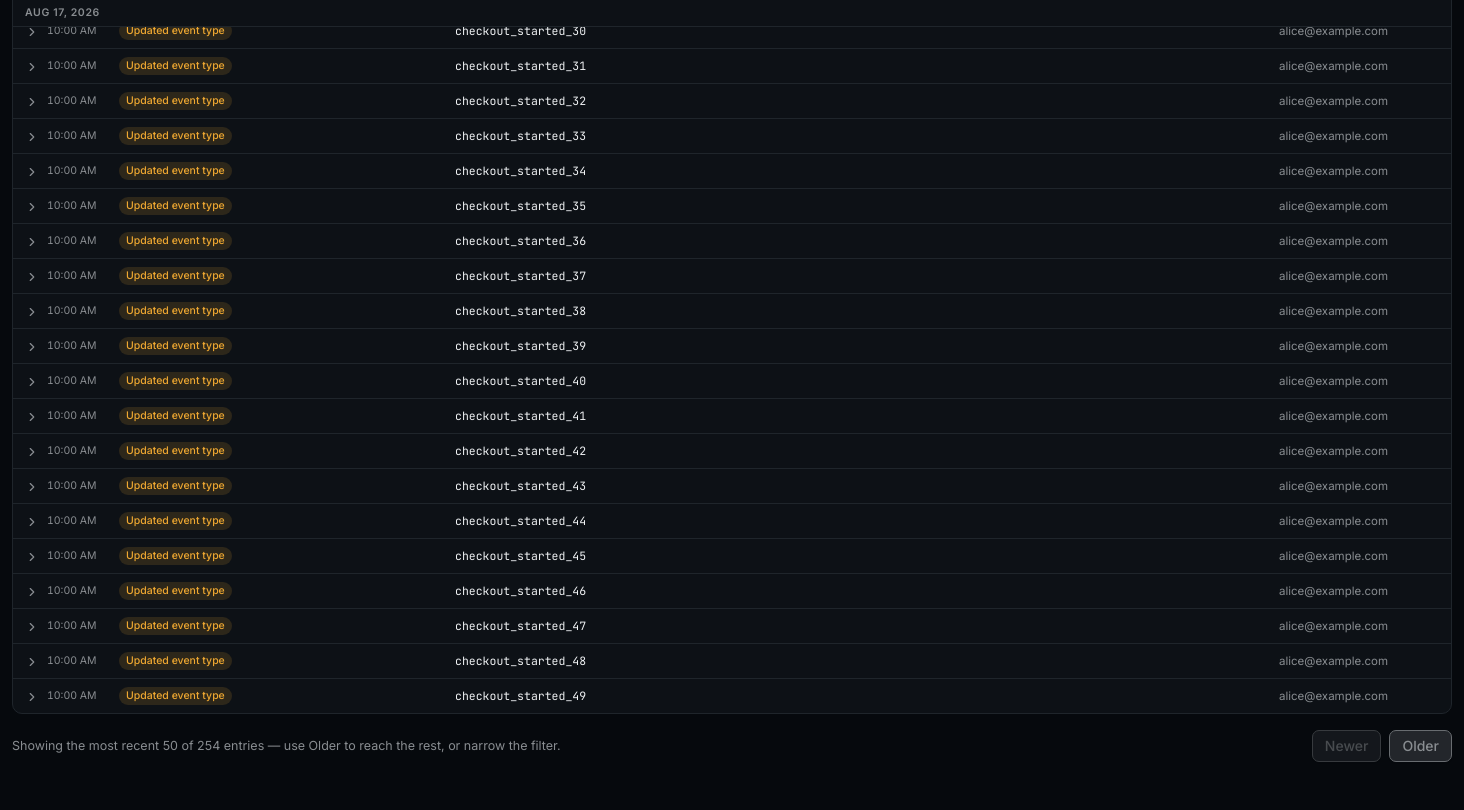
Test: AuditTab — paging (tripl-5ydt) › says the next page is loading and refuses a second step until it lands
(page scrolled)
Step 1. Click the button "Older" → {"x": 1421, "y": 746}, box [1389, 730, 1452, 762]
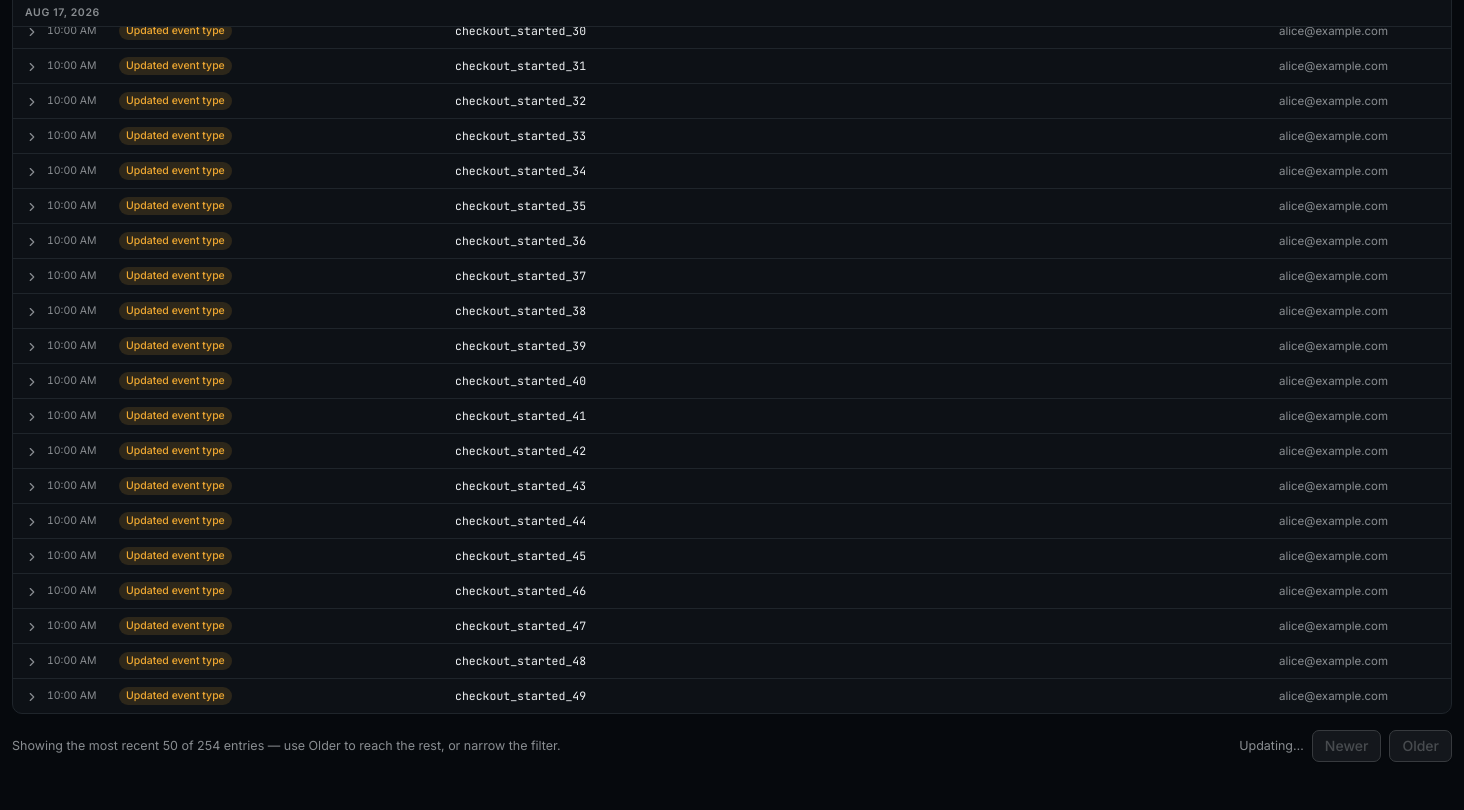
Check: the text "Showing the most recent 50 of 254 entries" is shown, box [12, 738, 561, 753]
Check: the text "Updating…" is shown, box [1239, 737, 1304, 755]
Check: the button "Older" is disabled
Step 2. Click the button "Older" → {"x": 1421, "y": 746}, box [1389, 730, 1452, 762]
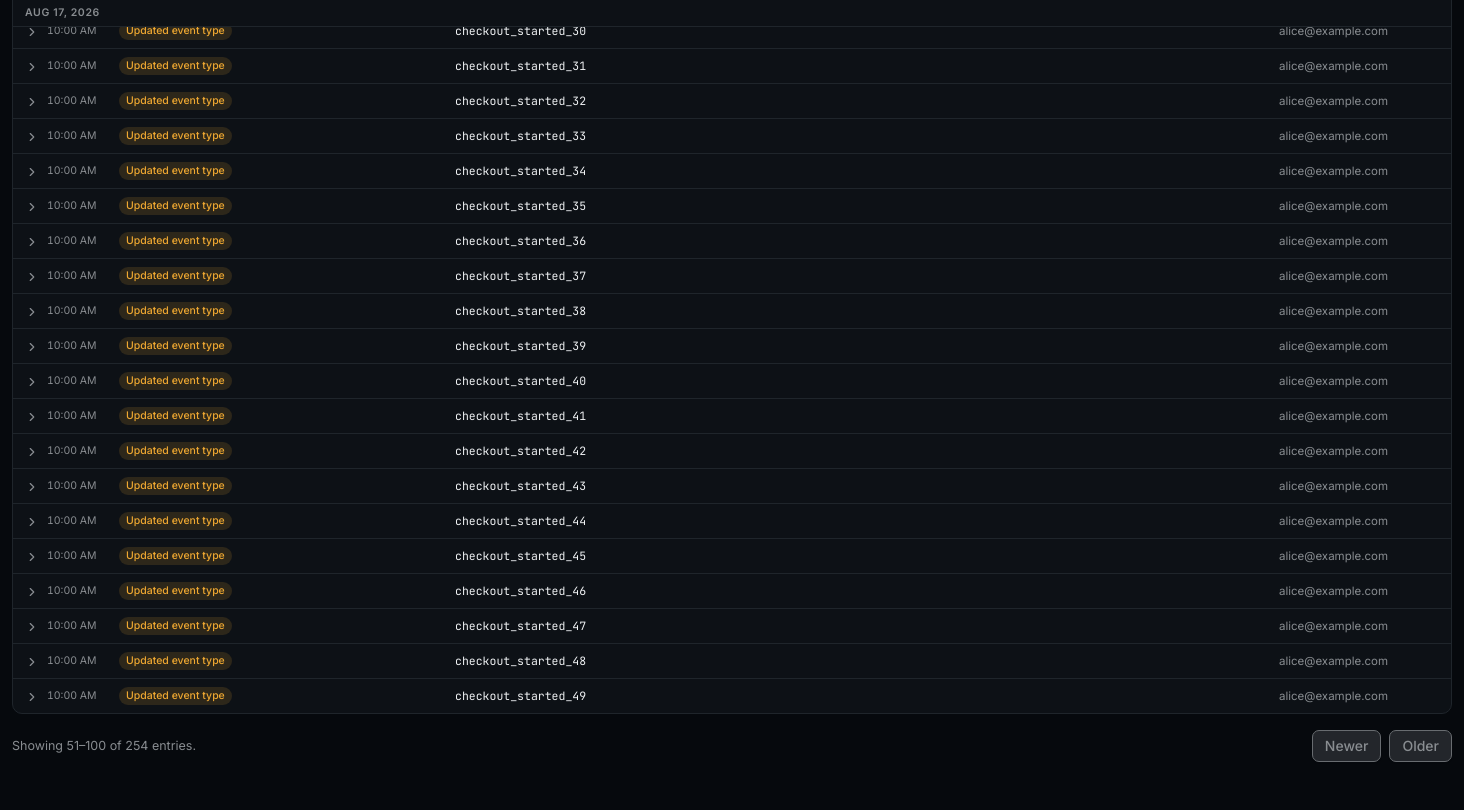
Check: the text "Showing 51–100 of 254 entries." is shown, box [12, 737, 196, 755]
Check: the text "Updating…" is gone
